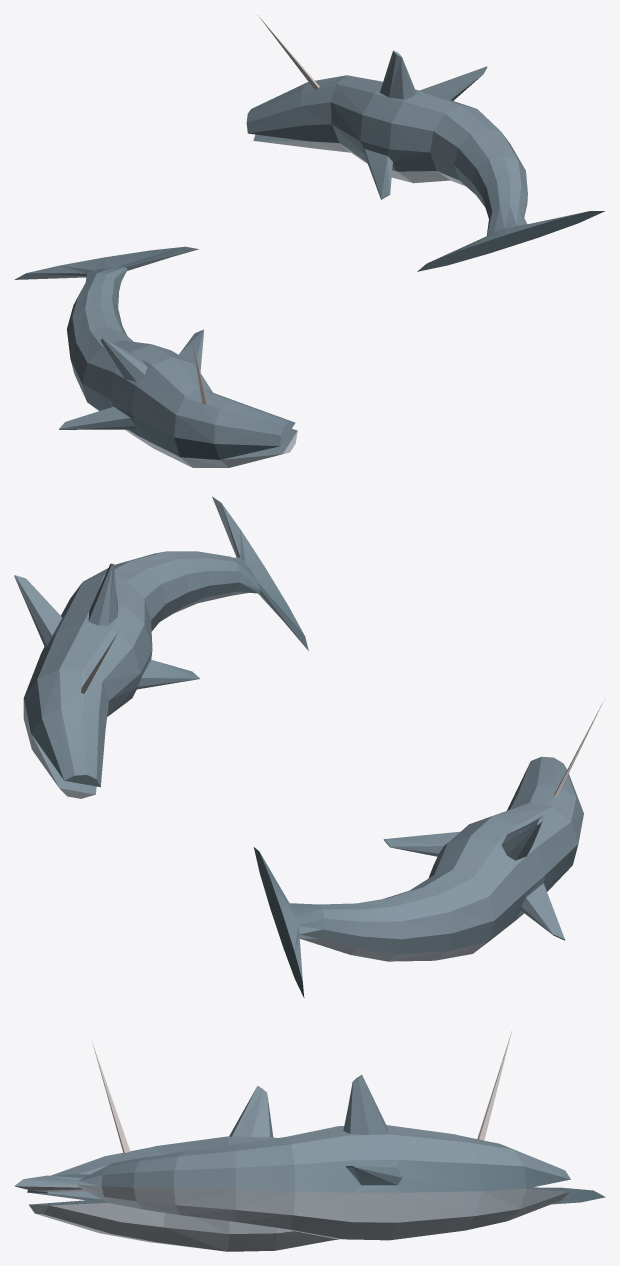
File: Water_Planet_Narwils.FBX
The picture shows the model from 3 angles, top to bottom: view 1: azimuth 30°, elevation 25°; view 2: azimuth 150°, elevation 25°; view 3: azimuth 270°, elevation 25°; orthographic projection. The views are drawn at different scales.
Visible parts, largest first — view 1: Orcha_Whale; view 2: Orcha_Whale; view 3: Orcha_Whale.
Part boxes in pixels (box(x1,y1,x2,y2)): Orcha_Whale: box(14, 15, 604, 467); Orcha_Whale: box(14, 496, 602, 997); Orcha_Whale: box(14, 1030, 605, 1251).
Bounding box in the file's own units: 65.51 × 40.21 × 63.37.
3 materials, 3 textured.
